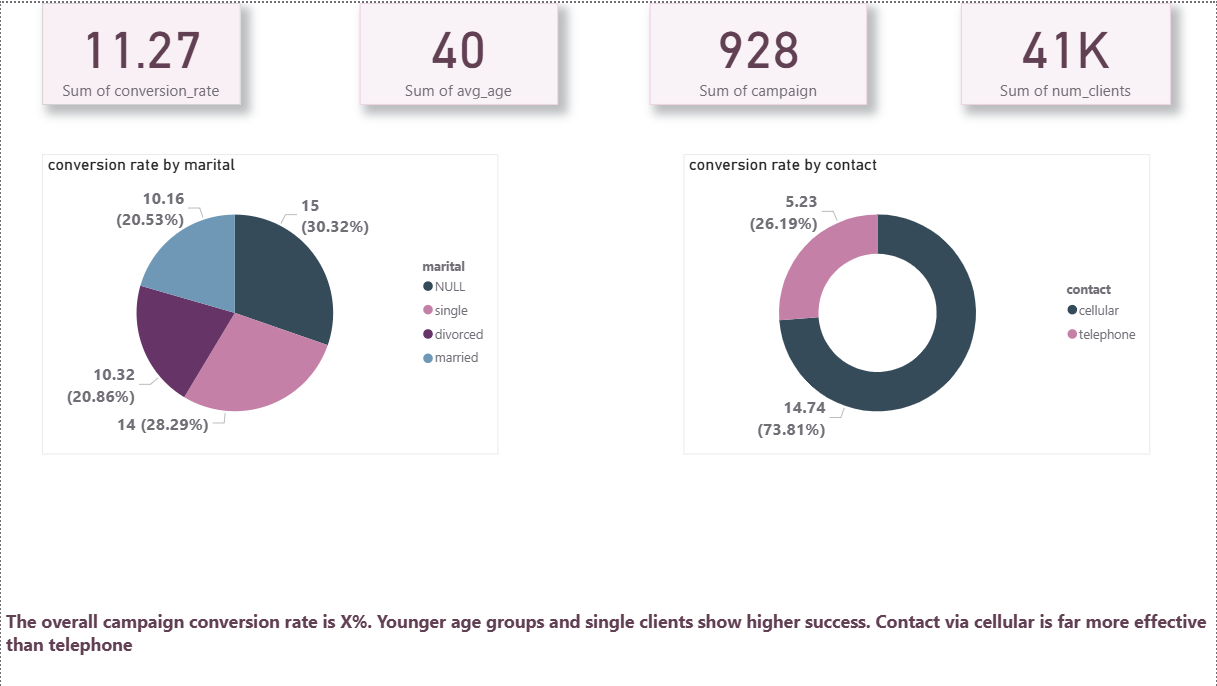

The dashboard page shown, as its layout file describes it:
{"tool":"powerbi","page":{"name":"Executive Dashboard","canvas":[1280,720],"ordinal":0},"visuals":[{"type":"card","fields":{"Values":["Sum(q1_Conversion_Rate.conversion_rate)"]},"box":[43.9,0,208.6,107],"z":0},{"type":"card","fields":{"Values":["Sum(q2_Average_Age.avg_age)"]},"box":[377.4,0,208.6,107],"z":1000},{"type":"card","fields":{"Values":["Sum(q5_clients_contacted.campaign)"]},"box":[683.4,0,229.2,107],"z":2000},{"type":"card","fields":{"Values":["Sum(q5_clients_contacted.num_clients)"]},"box":[1010,0,220.9,107],"z":3000},{"type":"pieChart","title":" conversion rate by marital","fields":{"Category":["q6_conversion_matrial.marital"],"Y":["Sum(q6_conversion_matrial.conversion_rate)"]},"box":[43.9,159.2,480.3,315.6],"z":4000},{"type":"donutChart","title":" conversion rate by contact","fields":{"Category":["q7_conversion_contact.contact"],"Y":["Sum(q7_conversion_contact.conversion_rate)"]},"box":[719,159.2,491.3,315.6],"z":5000},{"type":"textbox","box":[0,632.6,1280.3,87.8],"z":6000}]}

Visuals, with their boxes in screenshot pixels (x1, y1, x2, y2), scaled from the page's 1280x720 canvas onto the 1217x686 screenshot:
card - Sum(q1_Conversion_Rate.conversion_rate): [left=42, top=0, right=240, bottom=102]
card - Sum(q2_Average_Age.avg_age): [left=359, top=0, right=557, bottom=102]
card - Sum(q5_clients_contacted.campaign): [left=650, top=0, right=868, bottom=102]
card - Sum(q5_clients_contacted.num_clients): [left=960, top=0, right=1170, bottom=102]
" conversion rate by marital" pieChart: [left=42, top=152, right=498, bottom=452]
" conversion rate by contact" donutChart: [left=684, top=152, right=1151, bottom=452]
textbox: [left=0, top=603, right=1216, bottom=685]
